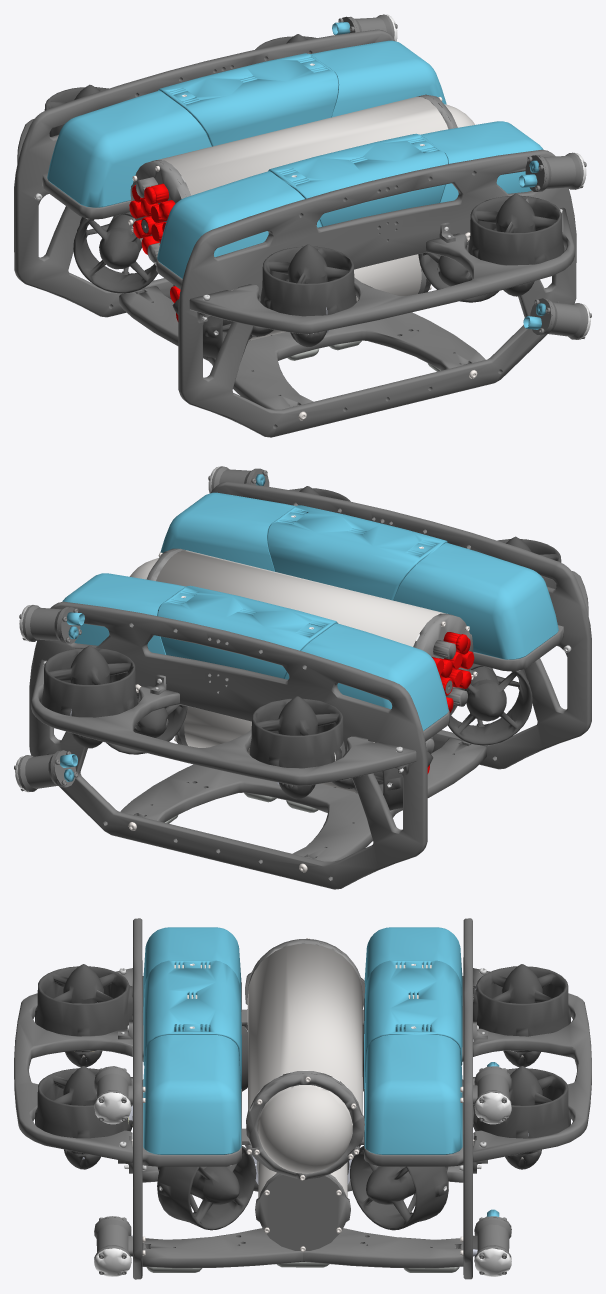
File: bluerov2_heavy.dae
3 renders of one model, top to bottom at view 1: azimuth 30°, elevation 25°; view 2: azimuth 150°, elevation 25°; view 3: azimuth 270°, elevation 25°, orthographic.
Parts seen in each view (by area): view 1: BROV2-HEAVY-45; view 2: BROV2-HEAVY-45; view 3: BROV2-HEAVY-45.
Part boxes in pixels (x1,y1,x2,y2): BROV2-HEAVY-45: (14,14,591,437); BROV2-HEAVY-45: (14,466,591,889); BROV2-HEAVY-45: (14,918,591,1279).
Bounding box in the file's own units: 17.99 × 22.62 × 9.97.
